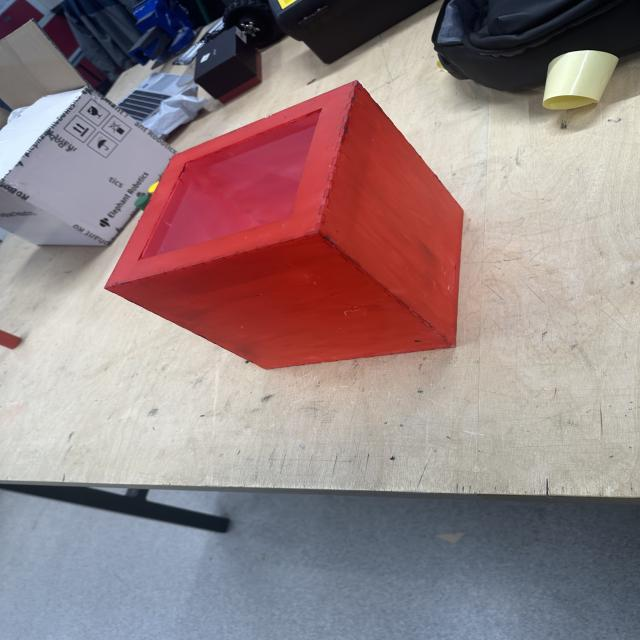red_bin: (103, 81, 466, 371)
